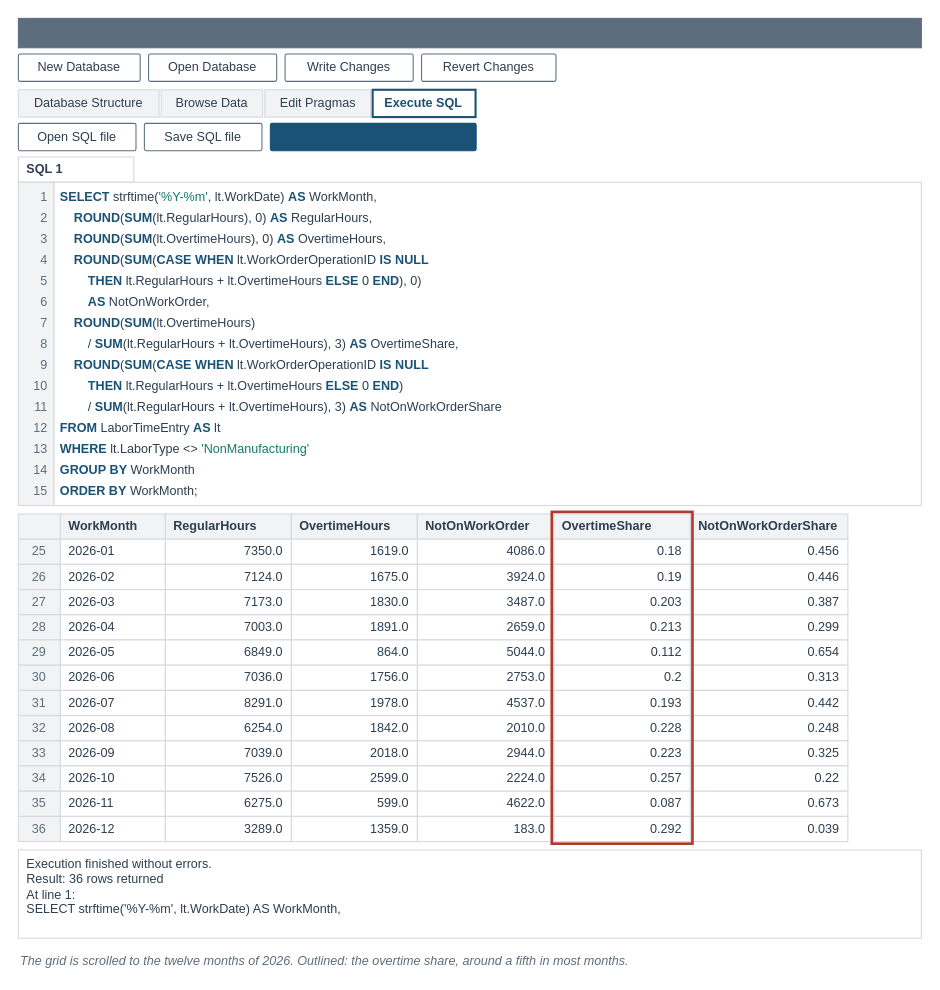
This 940x990 diagram has some shape labels left out. The centre of each missing label's shape, as x and y in pixels:
"DB Browser for SQLite - CharlesRiver_Work.sqlite" goes at point 469,32.
"▶ Execute all/selected SQL" goes at point 372,136.
